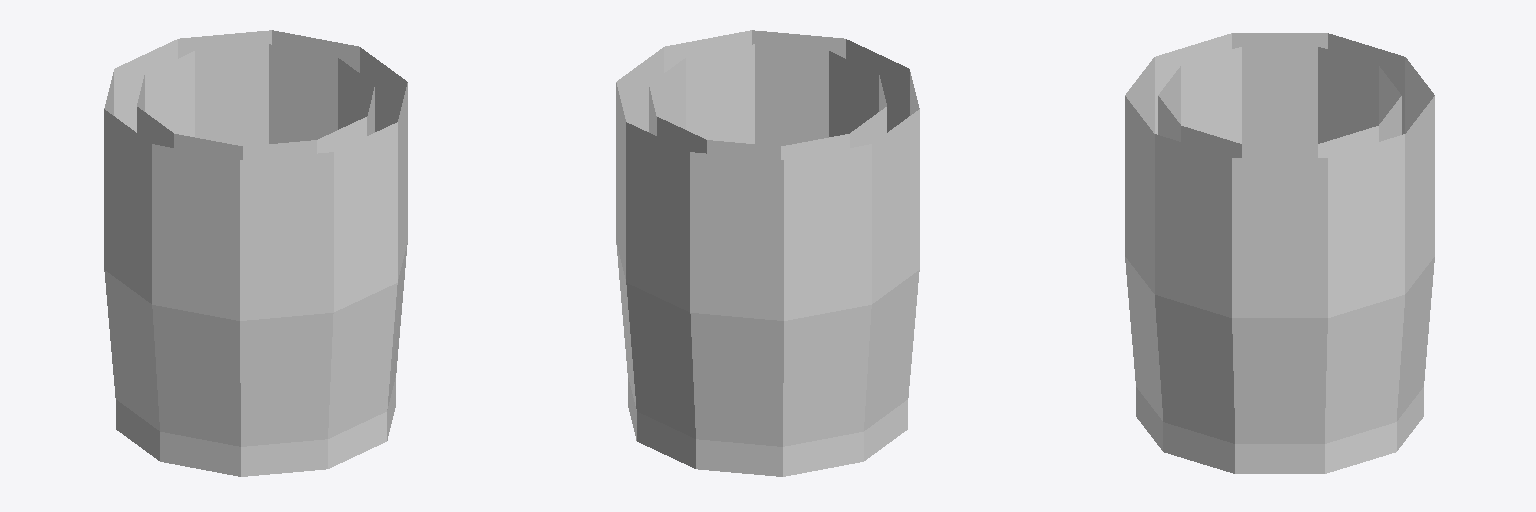
The model's file is tall_barrel_lower.obj.
3 views of the same model, side by side, from view 1: azimuth 30°, elevation 25°; view 2: azimuth 150°, elevation 25°; view 3: azimuth 270°, elevation 25° (orthographic).
Visible parts, largest first — view 1: lower_side, bottom; view 2: lower_side, bottom; view 3: lower_side, bottom.
Boxes of the visible parts, box(x1,y1,x2,y2) form: lower_side: box(104, 30, 407, 446); bottom: box(116, 378, 395, 476); lower_side: box(616, 30, 919, 446); bottom: box(628, 378, 907, 476); lower_side: box(1125, 33, 1434, 443); bottom: box(1136, 387, 1423, 473).
Size of the model in its own units: 0.8322 by 1 by 0.875.